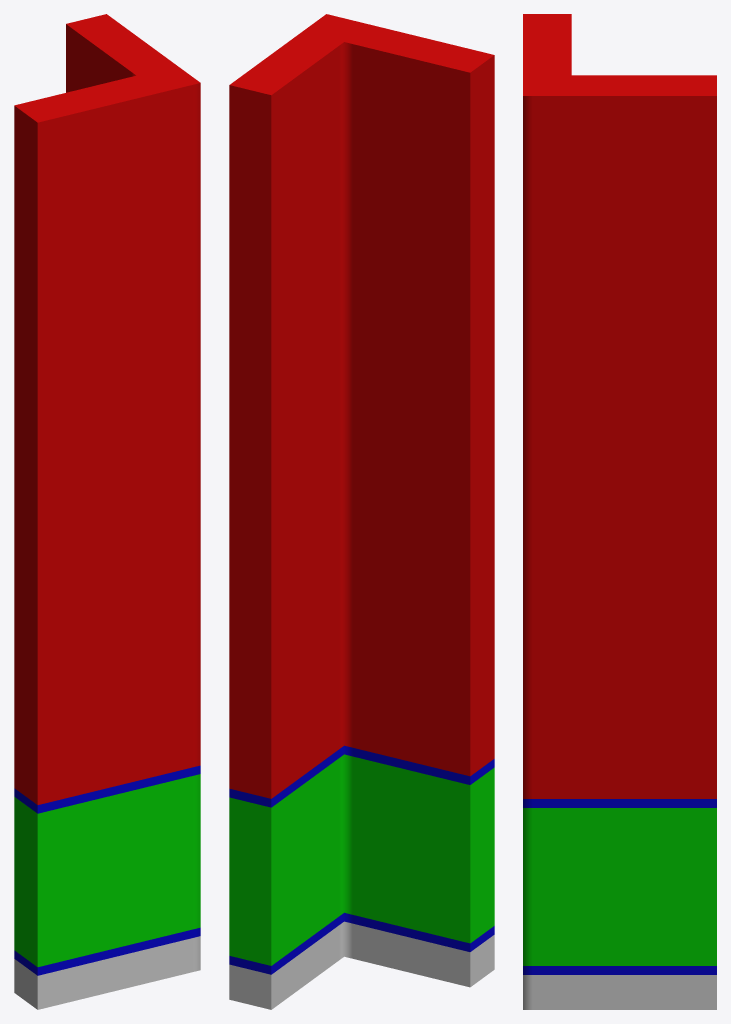
The model's file is SM_IntWall1mCornerOuter.fbx.
3 views of the same model, side by side, from view 1: azimuth 30°, elevation 25°; view 2: azimuth 150°, elevation 25°; view 3: azimuth 270°, elevation 25° (orthographic). The views are drawn at different scales.
Parts seen in each view (by area): view 1: SM_IntWall1mCornerOuter; view 2: SM_IntWall1mCornerOuter; view 3: SM_IntWall1mCornerOuter.
Part boxes in pixels (<box>): SM_IntWall1mCornerOuter: <box>14,14,200,1009</box>; SM_IntWall1mCornerOuter: <box>229,14,494,1009</box>; SM_IntWall1mCornerOuter: <box>523,14,716,1009</box>.
Size of the model in its own units: 100 by 520 by 100.
